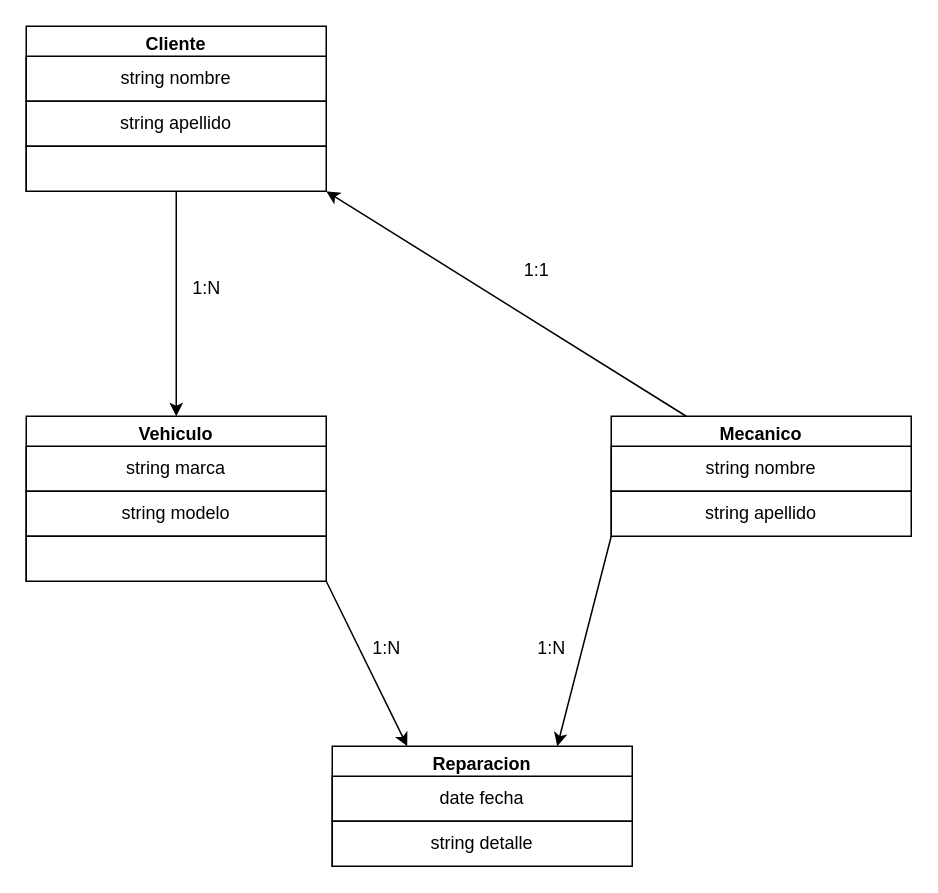
This 938x893 diagram has some shape labels left out. Each missing label, with the centre of its shape:
string matricula: [175,558]
string numeroContacto: [175,168]
